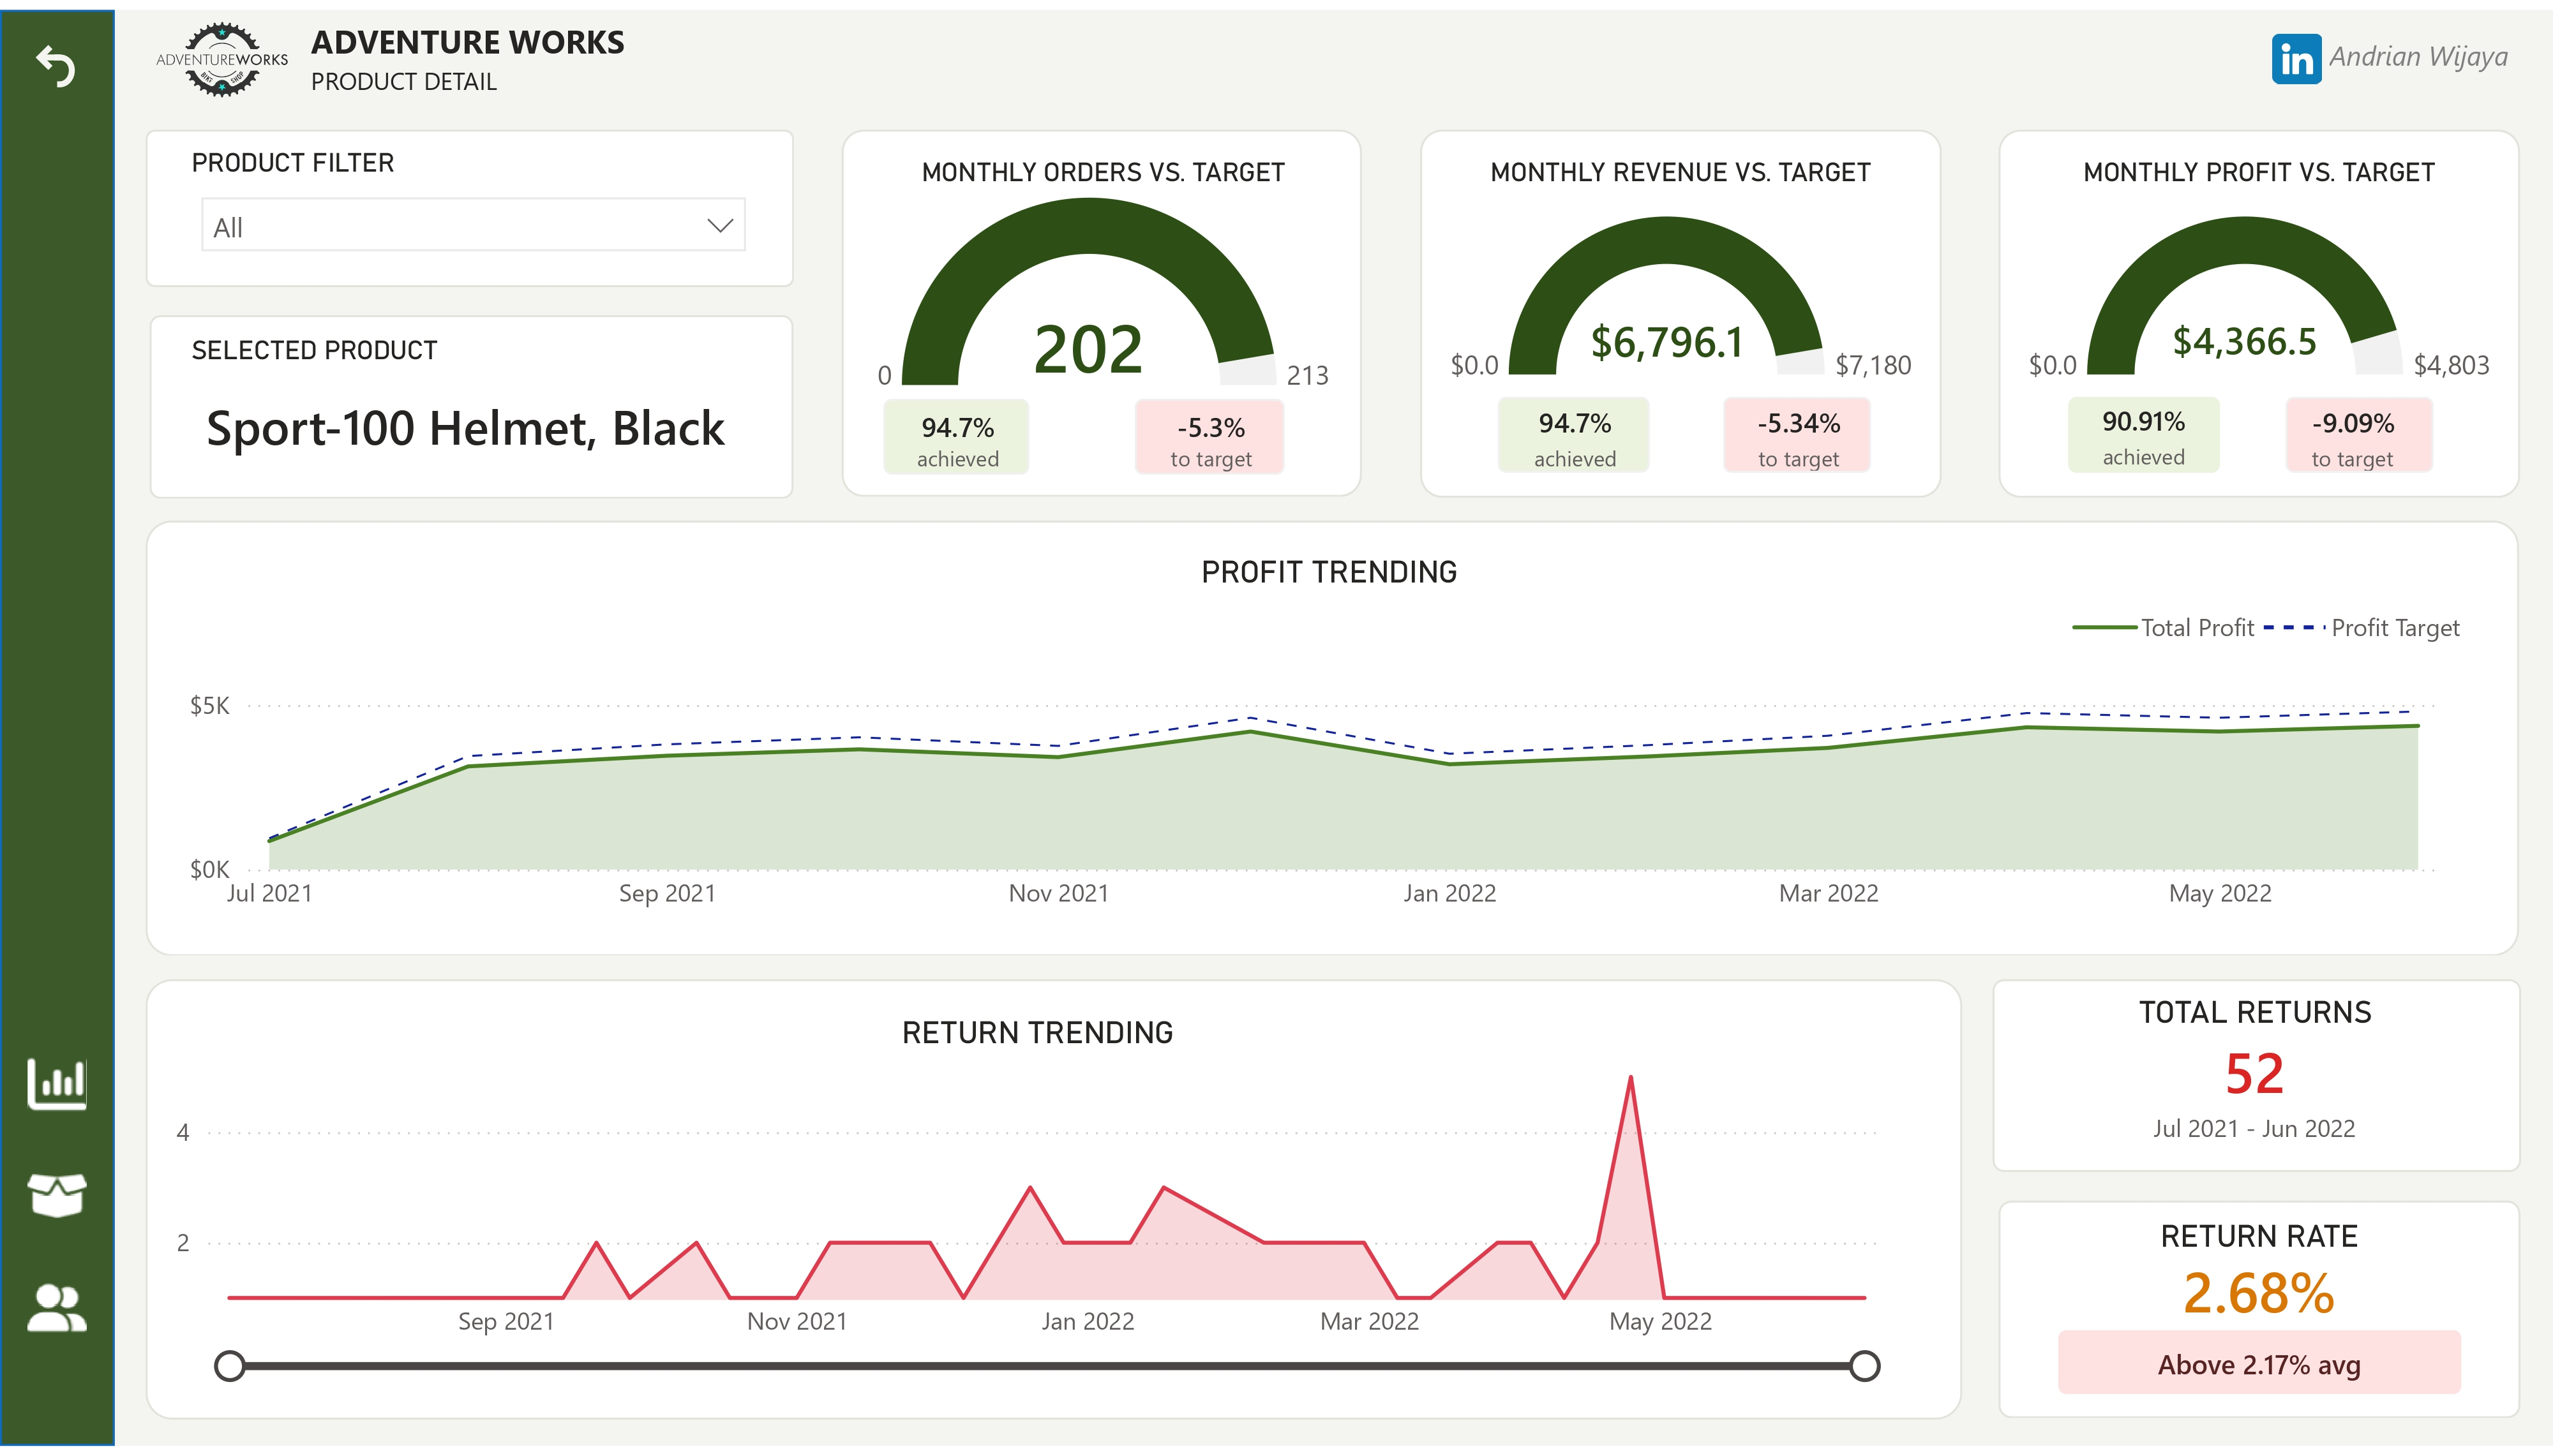

Layout of this report page (visuals, bound fields, positions):
{"tool":"powerbi","page":{"name":"Product Detail","canvas":[1280,720],"ordinal":1},"visuals":[{"type":"shape","title":"Menu Bar","box":[0,0,57.5,720],"z":0,"group":"g15"},{"type":"image","box":[68.3,4.7,86.1,40.4],"z":0,"group":"g13"},{"type":"textbox","title":"linkdin","box":[1163.3,9.3,109.6,29.6],"z":0,"group":"g6"},{"type":"shape","title":"Shape","box":[72.8,59.6,325.2,79],"z":0,"group":"g12"},{"type":"shape","title":"Shape","box":[421.7,60,260.8,184.2],"z":0,"group":"g2"},{"type":"shape","title":"Shape","box":[711.5,60,261.5,184.6],"z":0,"group":"g3"},{"type":"shape","title":"Shape","box":[1001.5,60,261.5,184.6],"z":0,"group":"g4"},{"type":"shape","title":"Shape","box":[75.1,152.5,322.8,92.1],"z":0,"group":"g14"},{"type":"shape","title":"Shape","box":[72.9,256,701.8,218.8],"z":0,"group":"g8"},{"type":"shape","title":"Shape","box":[787.3,258.2,475.5,215.8],"z":0,"group":"g7"},{"type":"shape","title":"Shape","box":[73.7,486,424.9,221],"z":0,"group":"g10"},{"type":"shape","title":"Shape","box":[511.3,486,475.5,215.8],"z":0,"group":"g9"},{"type":"group","id":"g1","title":"Total Return","box":[998.6,486,265,96.7],"z":0},{"type":"shape","title":"Shape","box":[998.6,486,265,96.7],"z":0,"group":"g1"},{"type":"actionButton","box":[10,519.2,37.5,39.2],"z":0,"group":"g5"},{"type":"shape","title":"Shape","box":[1001.7,596.7,261.7,109.2],"z":0,"group":"g11"},{"type":"textbox","box":[150.8,0,204.5,50.9],"z":1000,"group":"g13"},{"type":"actionButton","box":[13.1,11.5,30,31.5],"z":1000,"group":"g15"},{"type":"image","box":[1138.8,12,25.3,25.3],"z":1000,"group":"g6"},{"type":"group","id":"g2","title":"Order Vs Target","box":[421.7,60,260.8,184.2],"z":1000},{"type":"slicer","title":"PRODUCT FILTER","fields":{"Values":["Product Lookup.ProductName"]},"box":[90.6,68.3,293.1,61.5],"z":1000,"group":"g12"},{"type":"cardVisual","title":"SELECTED PRODUCT","fields":{"Data":["Measure Table.Selected Product"]},"box":[90.6,163.3,285.7,74.3],"z":1000,"group":"g14"},{"type":"cardVisual","title":"to target","fields":{"Data":["Measure Table.Revenue Gap"]},"box":[857.5,187.5,86.7,50.8],"z":1000,"group":"g3"},{"type":"cardVisual","title":"to target","fields":{"Data":["Measure Table.Profit Gap"]},"box":[1139.1,187.5,86.7,50.8],"z":1000,"group":"g4"},{"type":"cardVisual","title":"achieved","fields":{"Data":["Measure Table.% Order Vs Target"]},"box":[436.7,188.6,85.6,50],"z":1000,"group":"g2"},{"type":"pivotTable","title":"TOP 10 PRODUCTS BY ORDERS","fields":{"Rows":["Product Lookup.ProductName"],"Values":["Measure Table.Total Orders","Measure Table.Total Profit","Measure Table.Total Revenue"]},"box":[797.6,268.7,458.6,196.6],"z":1000,"group":"g7"},{"type":"areaChart","title":"PROFIT TRENDING","fields":{"Y":["Measure Table.Total Profit","Measure Table.Profit Target"],"Category":["Calendar Lookup.Date Hierarchy (Start).Year","Calendar Lookup.Date Hierarchy (Start).Start of Month","Calendar Lookup.Date Hierarchy (Start).Start of Week","Calendar Lookup.Date Hierarchy (Start).Date"]},"box":[83.1,271.9,680.2,188.8],"z":1000,"group":"g8"},{"type":"cardVisual","title":"TOTAL RETURNS","fields":{"Data":["Measure Table.Total Returns"]},"box":[1005,492.5,251.7,82.5],"z":1000,"group":"g1"},{"type":"pivotTable","title":"TOP 10 PRODUCTS BY ORDERS","fields":{"Rows":["Product Lookup.ProductName"],"Values":["Measure Table.Total Returns","Measure Table.Return Rate"]},"box":[521.6,496.5,458.6,196.6],"z":1000,"group":"g9"},{"type":"areaChart","title":"RETURN TRENDING","fields":{"Y":["Measure Table.Total Returns"],"Category":["Calendar Lookup.Date Hierarchy (Start).Year","Calendar Lookup.Date Hierarchy (Start).Start of Month","Calendar Lookup.Date Hierarchy (Start).Start of Week","Calendar Lookup.Date Hierarchy (Start).Date"]},"box":[74.5,502.7,415.6,188.5],"z":1000,"group":"g10"},{"type":"actionButton","box":[10,575,37.5,39.2],"z":1000,"group":"g5"},{"type":"cardVisual","title":"RETURN RATE","fields":{"Data":["Measure Table.Return Rate"]},"box":[1017.5,605,230,96.7],"z":1000,"group":"g11"},{"type":"actionButton","box":[10,56.7,35.8,34.2],"z":2000,"group":"g15"},{"type":"group","id":"g3","title":"Revenue Vs Target","box":[711.5,60,261.5,184.6],"z":2000},{"type":"cardVisual","title":"achieved","fields":{"Data":["Measure Table.% Profit vs Target"]},"box":[1030.2,187.5,88.3,50],"z":2000,"group":"g4"},{"type":"cardVisual","title":"achieved","fields":{"Data":["Measure Table.% Revenue vs Target"]},"box":[744.1,188.3,88.3,50],"z":2000,"group":"g3"},{"type":"cardVisual","title":"to target","fields":{"Data":["Measure Table.% Order vs Target (to Target)"]},"box":[562.3,188.6,87.2,50],"z":2000,"group":"g2"},{"type":"actionButton","box":[10,630.9,37.5,39.2],"z":2000,"group":"g5"},{"type":"group","id":"g4","title":"Profit Vs Target","box":[1001.5,60,261.5,184.6],"z":3000},{"type":"gauge","title":"MONTHLY REVENUE VS. TARGET","fields":{"Y":["Measure Table.Total Revenue"],"MaxValue":["Measure Table.Revenue Target"]},"box":[716.6,74.2,251.7,128.3],"z":3000,"group":"g3"},{"type":"gauge","title":"MONTHLY PROFIT VS. TARGET","fields":{"Y":["Measure Table.Total Profit"],"MaxValue":["Measure Table.Profit Target"]},"box":[1006.6,74.2,251.7,128.3],"z":3000,"group":"g4"},{"type":"gauge","title":"MONTHLY ORDERS VS. TARGET","fields":{"MaxValue":["Measure Table.Order Target"],"Y":["Measure Table.Total Orders"]},"box":[429.3,74.4,246.6,124.2],"z":3000,"group":"g2"},{"type":"group","id":"g5","title":"Button","box":[10,519.2,37.5,150.8],"z":3000,"group":"g15"},{"type":"group","id":"g6","title":"Linkedin","box":[1138.8,9.3,134.7,30.2],"z":4000},{"type":"group","id":"g7","title":"Top 10 Product Profit","box":[787.3,258.2,475.5,215.8],"z":4500},{"type":"group","id":"g8","title":"Profit Trending","box":[72.9,256,701.8,218.8],"z":5000},{"type":"group","id":"g9","title":"Top 10 Product Return","box":[511.3,486,475.5,215.8],"z":6000},{"type":"group","id":"g10","title":"Return Trending","box":[73.7,486,424.9,221],"z":7000},{"type":"group","id":"g11","title":"Return Rate","box":[1001.7,596.7,261.7,109.2],"z":8000},{"type":"group","id":"g12","title":"Product Filter","box":[72.8,59.6,325.2,79],"z":9000},{"type":"group","id":"g13","title":"Logo","box":[68.3,0,286.7,50.8],"z":10000},{"type":"group","id":"g14","title":"Selected Product","box":[75.1,152.5,322.8,92.1],"z":11000},{"type":"group","id":"g15","title":"Menu Bar","box":[0,0,57.5,720],"z":12000}]}

Visuals, with their boxes in screenshot pixels (x1, y1, x2, y2), scaled from the page's 1280x720 canvas onto the 2553x1456 screenshot:
"Menu Bar" shape: left=0, top=0, right=115, bottom=1455
image: left=136, top=10, right=308, bottom=91
"linkdin" textbox: left=2320, top=19, right=2539, bottom=78
"Shape" shape: left=146, top=121, right=794, bottom=280
"Shape" shape: left=841, top=121, right=1361, bottom=494
"Shape" shape: left=1419, top=121, right=1941, bottom=494
"Shape" shape: left=1998, top=121, right=2519, bottom=494
"Shape" shape: left=150, top=308, right=793, bottom=494
"Shape" shape: left=146, top=517, right=1545, bottom=960
"Shape" shape: left=1570, top=522, right=2519, bottom=958
"Shape" shape: left=147, top=983, right=994, bottom=1430
"Shape" shape: left=1020, top=983, right=1968, bottom=1419
"Total Return" group: left=1992, top=983, right=2520, bottom=1178
"Shape" shape: left=1992, top=983, right=2520, bottom=1178
actionButton: left=20, top=1050, right=94, bottom=1129
"Shape" shape: left=1998, top=1207, right=2520, bottom=1427
textbox: left=301, top=0, right=708, bottom=103
actionButton: left=26, top=23, right=86, bottom=87
image: left=2272, top=24, right=2322, bottom=75
"Order Vs Target" group: left=841, top=121, right=1361, bottom=494
"PRODUCT FILTER" slicer: left=181, top=138, right=765, bottom=262
"SELECTED PRODUCT" cardVisual: left=181, top=331, right=751, bottom=480
"to target" cardVisual: left=1711, top=379, right=1883, bottom=482
"to target" cardVisual: left=2272, top=379, right=2445, bottom=482
"achieved" cardVisual: left=871, top=382, right=1042, bottom=482
"TOP 10 PRODUCTS BY ORDERS" pivotTable: left=1591, top=544, right=2506, bottom=941
"PROFIT TRENDING" areaChart: left=166, top=550, right=1522, bottom=932
"TOTAL RETURNS" cardVisual: left=2005, top=996, right=2506, bottom=1163
"TOP 10 PRODUCTS BY ORDERS" pivotTable: left=1040, top=1004, right=1955, bottom=1402
"RETURN TRENDING" areaChart: left=149, top=1016, right=978, bottom=1398
actionButton: left=20, top=1163, right=94, bottom=1242
"RETURN RATE" cardVisual: left=2030, top=1224, right=2488, bottom=1419
actionButton: left=20, top=115, right=91, bottom=184
"Revenue Vs Target" group: left=1419, top=121, right=1941, bottom=494
"achieved" cardVisual: left=2055, top=379, right=2231, bottom=480
"achieved" cardVisual: left=1484, top=381, right=1660, bottom=482
"to target" cardVisual: left=1121, top=382, right=1296, bottom=482
actionButton: left=20, top=1276, right=94, bottom=1355
"Profit Vs Target" group: left=1998, top=121, right=2519, bottom=494
"MONTHLY REVENUE VS. TARGET" gauge: left=1429, top=150, right=1931, bottom=410
"MONTHLY PROFIT VS. TARGET" gauge: left=2008, top=150, right=2510, bottom=410
"MONTHLY ORDERS VS. TARGET" gauge: left=857, top=151, right=1348, bottom=401
"Button" group: left=20, top=1050, right=94, bottom=1355
"Linkedin" group: left=2272, top=19, right=2540, bottom=80
"Top 10 Product Profit" group: left=1570, top=522, right=2519, bottom=958
"Profit Trending" group: left=146, top=517, right=1545, bottom=960
"Top 10 Product Return" group: left=1020, top=983, right=1968, bottom=1419
"Return Trending" group: left=147, top=983, right=994, bottom=1430
"Return Rate" group: left=1998, top=1207, right=2520, bottom=1427
"Product Filter" group: left=146, top=121, right=794, bottom=280
"Logo" group: left=136, top=0, right=708, bottom=103
"Selected Product" group: left=150, top=308, right=793, bottom=494
"Menu Bar" group: left=0, top=0, right=115, bottom=1455
